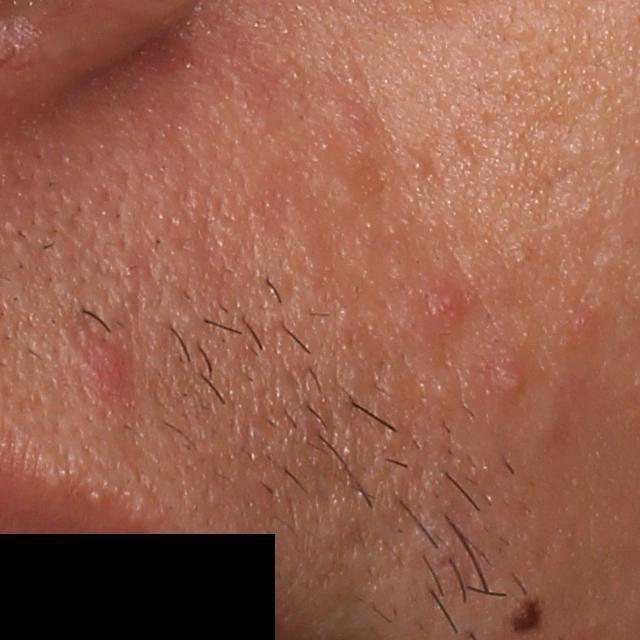papule: (82, 344, 131, 396), (420, 279, 465, 329), (495, 367, 529, 398)
